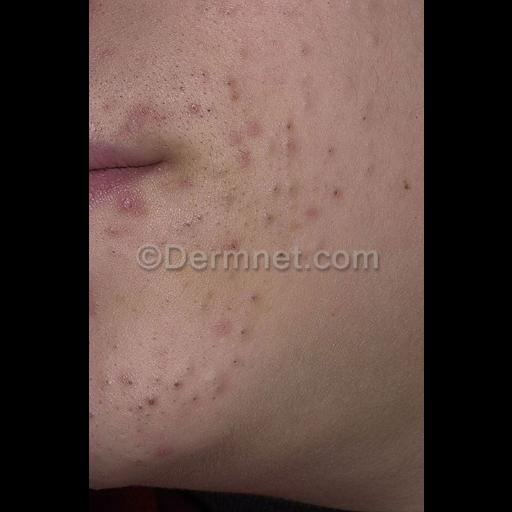Skin_Lesion: (116, 372, 194, 412), (222, 129, 276, 169), (244, 186, 288, 228), (203, 309, 255, 343), (207, 72, 259, 100), (112, 104, 164, 130), (275, 117, 311, 147), (176, 98, 214, 124), (316, 179, 354, 205), (109, 193, 147, 217), (210, 236, 254, 256), (320, 142, 348, 164), (234, 290, 272, 306)
